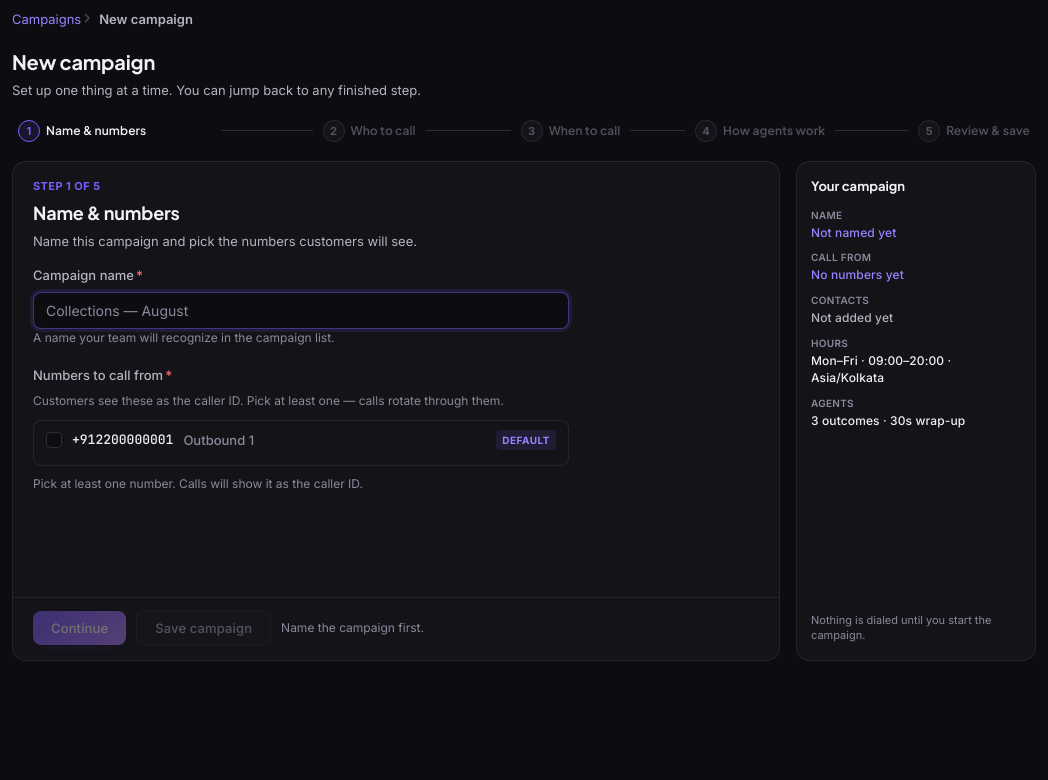
Scenario: the page composes the mapper › shows the real row limit from the API rather than a copied constant
In the field labelled "Campaign name*": x=301, y=310 x1=33 y1=292 x2=569 y2=329, type "Collections"
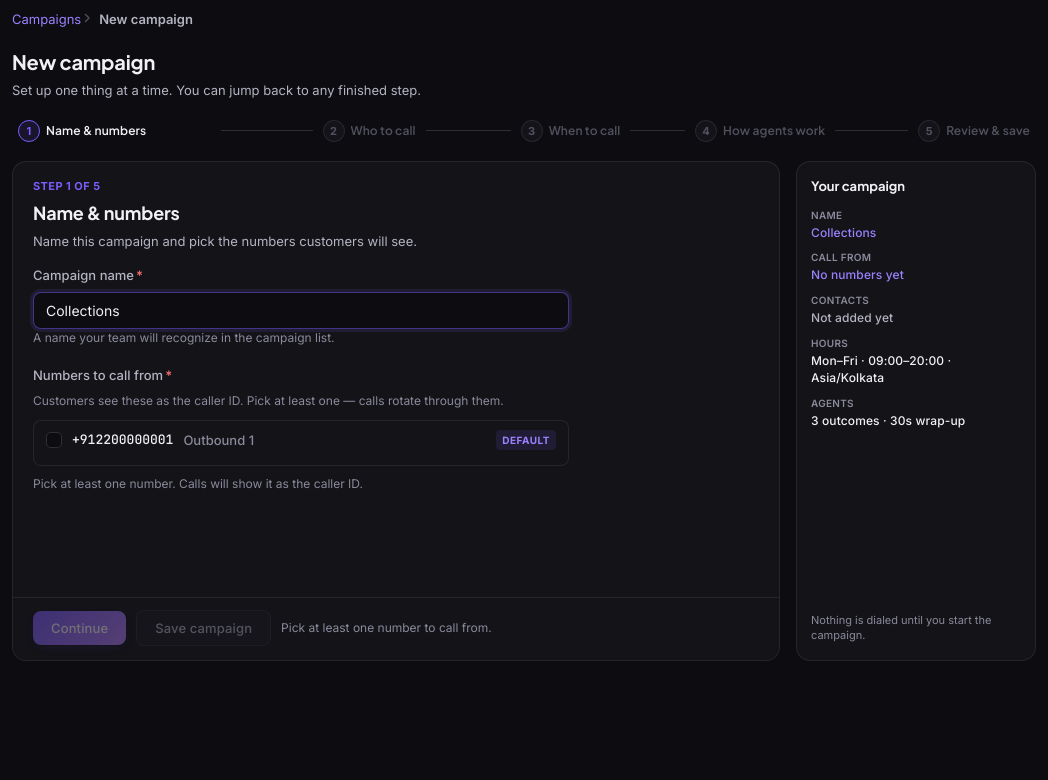
Click the checkbox labelled "+912200000001 Outbound 1 Default": x=54, y=440 x1=46 y1=432 x2=62 y2=448
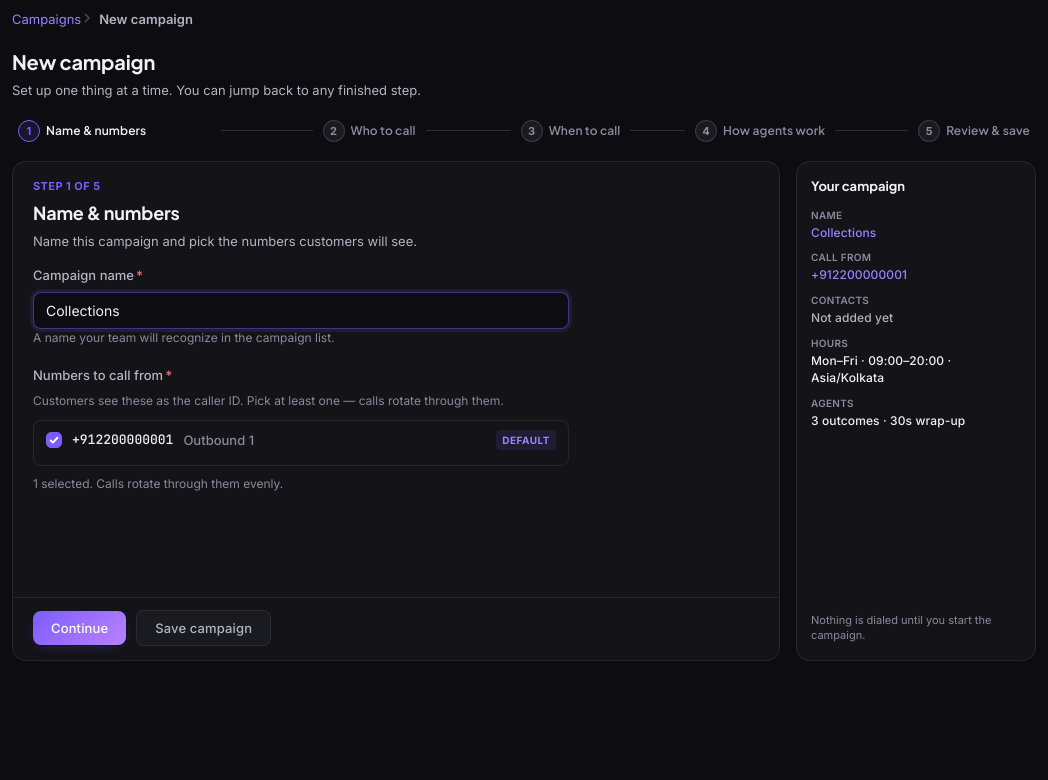
Click the button "2 Who to call": x=369, y=131 x1=316 y1=115 x2=422 y2=147
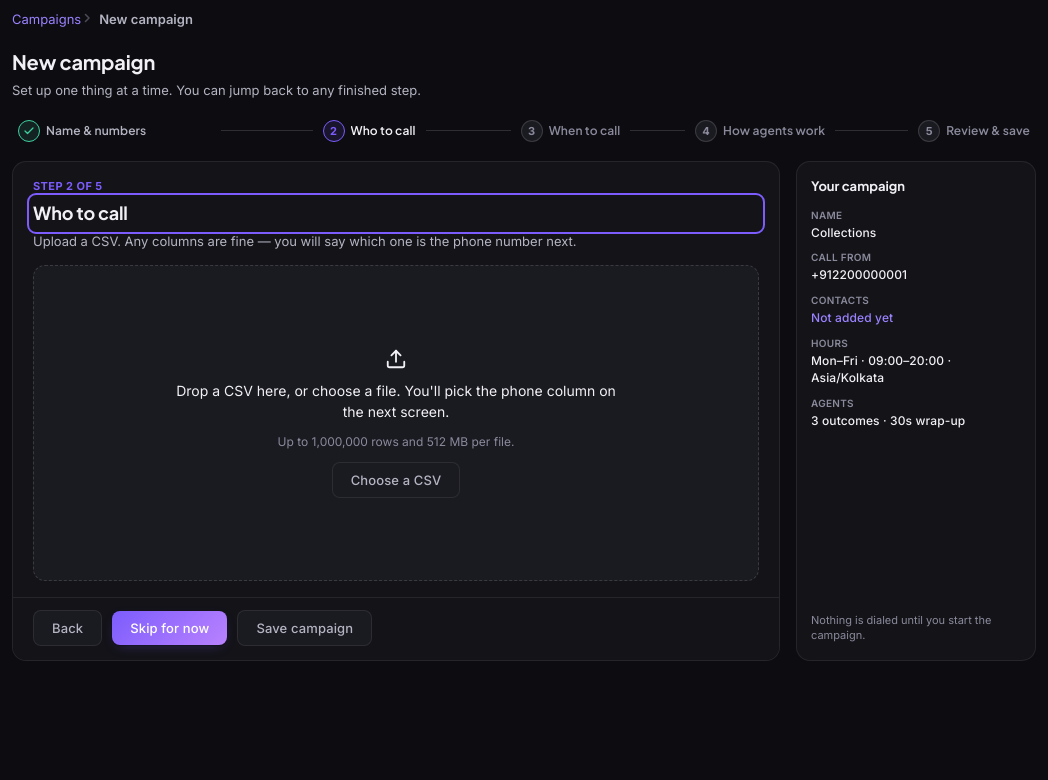
Expected: the text with test id "ingest-limits" shows "1,000,000 rows", x1=278 y1=432 x2=514 y2=452
